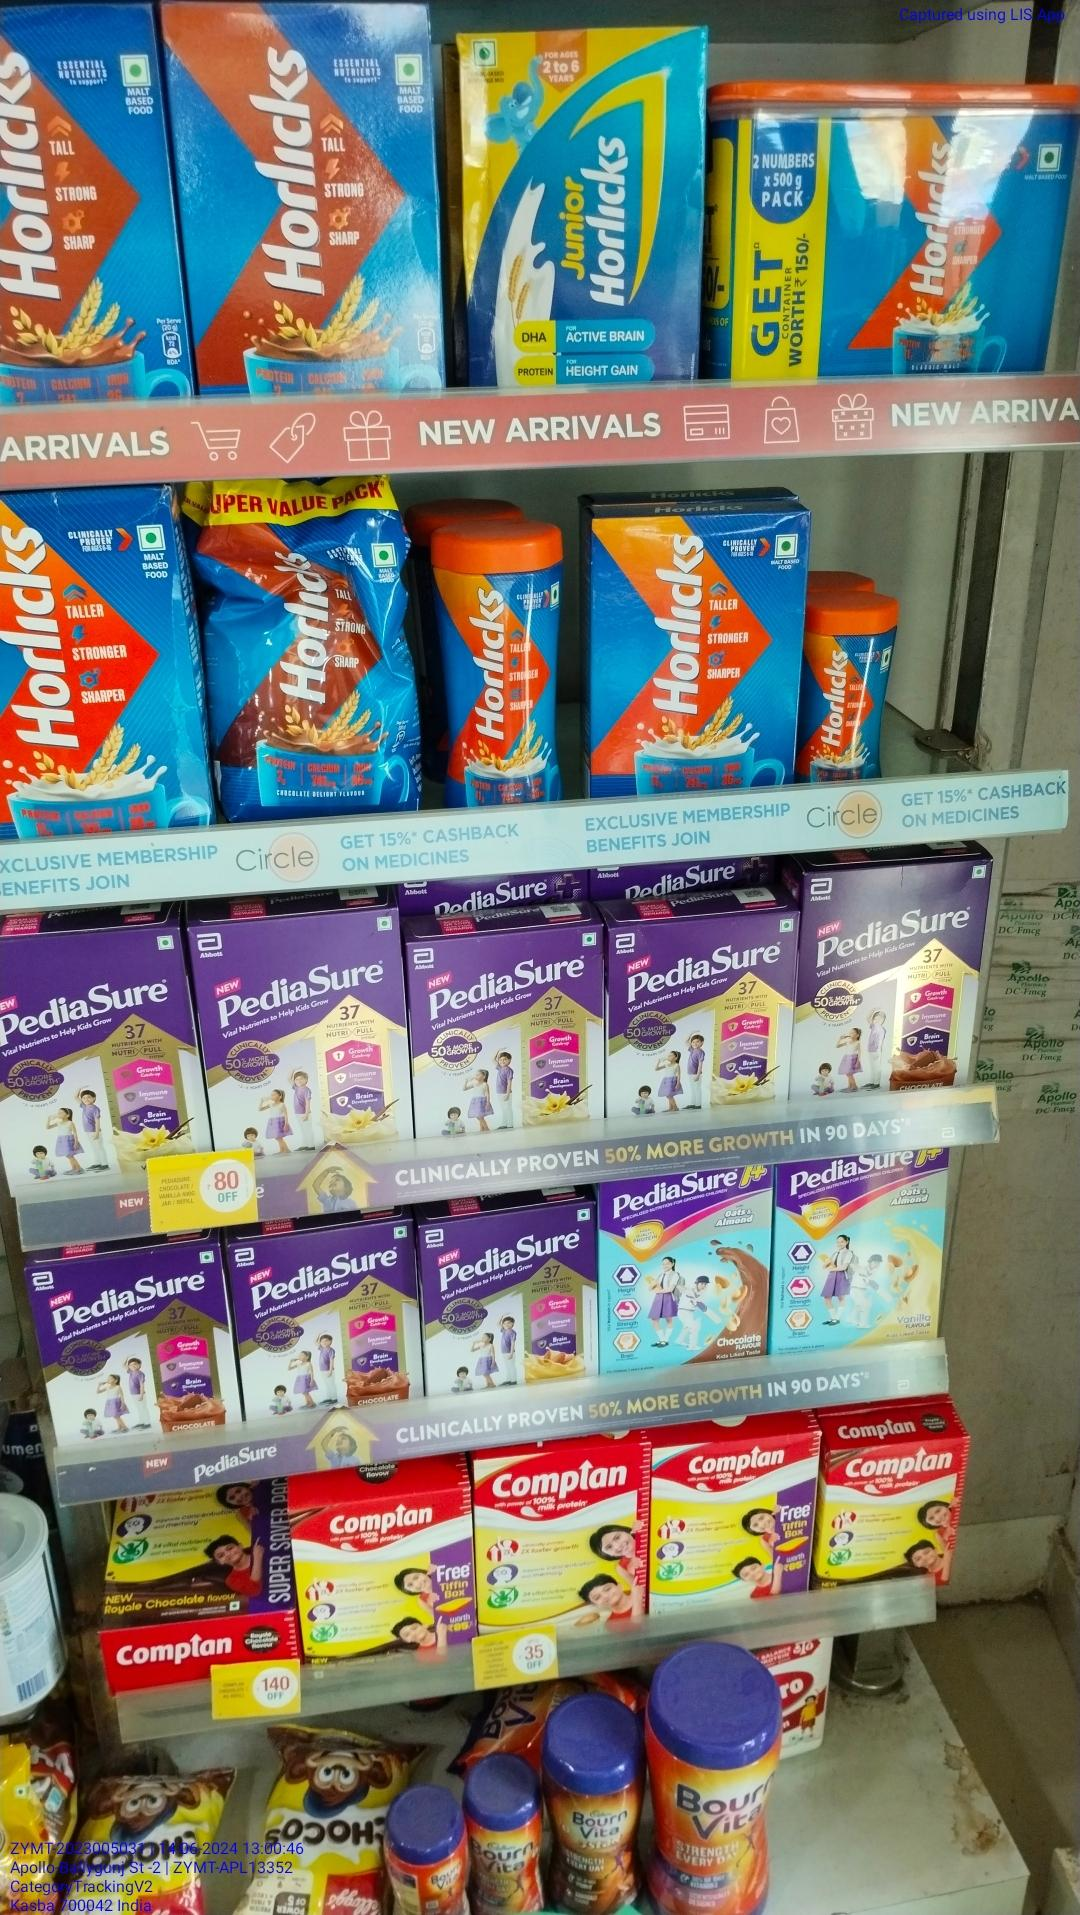BOURN_VITA_1_KG_JAR: (647, 1685, 772, 1914)
PEDIASURE_7_PLUS_CHOCOLATE_400_G_PACK: (601, 1177, 768, 1368)
PEDIASURE_CHOCOLATE_500_G_PACK: (788, 851, 991, 1100), (51, 1240, 225, 1447), (243, 1224, 417, 1423)
PEDIASURE_VANILLA_500_G_PACK: (191, 919, 410, 1159), (0, 921, 178, 1181), (608, 923, 792, 1117), (417, 930, 596, 1123), (421, 1209, 600, 1401)
